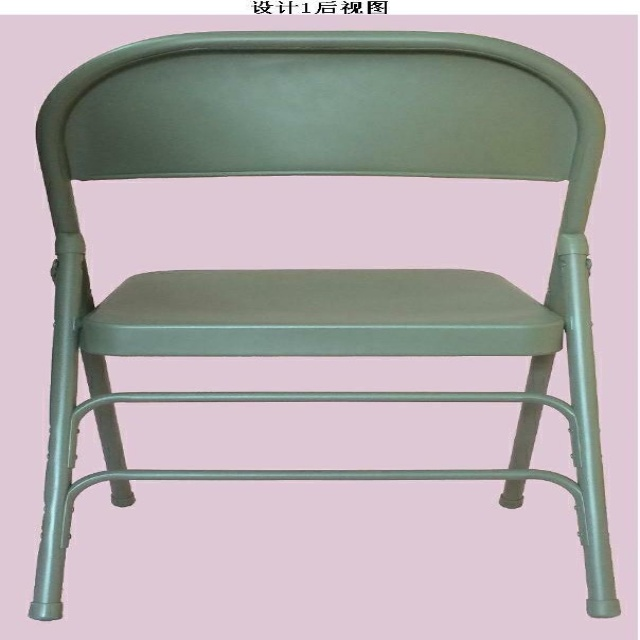obstacle: (29, 31, 620, 620)
